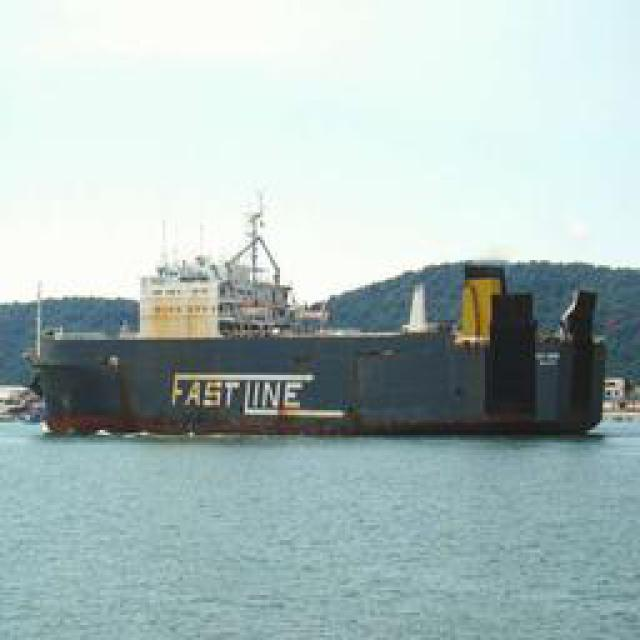Ship: (27, 227, 610, 440)
